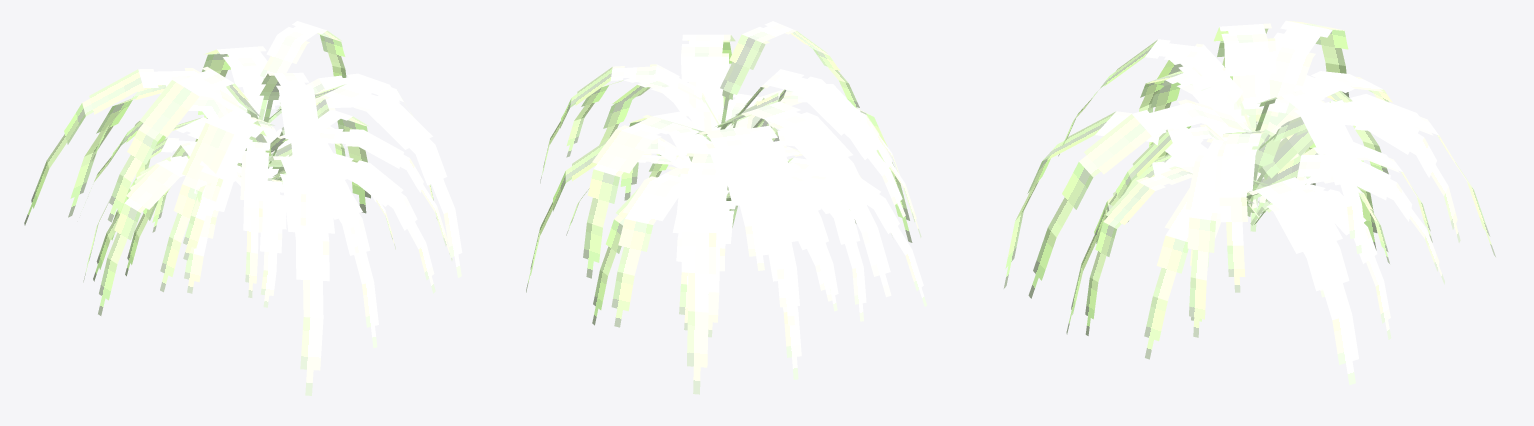
File: deco-fern-large.glb
3 views of the same model, side by side, from view 1: azimuth 30°, elevation 25°; view 2: azimuth 150°, elevation 25°; view 3: azimuth 270°, elevation 25° (orthographic). The views are drawn at different scales.
Visible parts, largest first — view 1: Fern Large.002; view 2: Fern Large.002; view 3: Fern Large.002.
Boxes of the visible parts, left/top/right/bottom form: Fern Large.002: left=24, top=21, right=462, bottom=395; Fern Large.002: left=526, top=21, right=926, bottom=394; Fern Large.002: left=1003, top=20, right=1495, bottom=384.
Bounding box in the file's own units: 3.65 × 2.33 × 3.95.
Materials: 1 (1 with a texture image).
